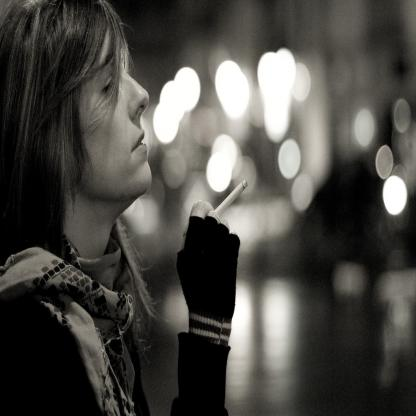smoking: (205, 180, 248, 223)
